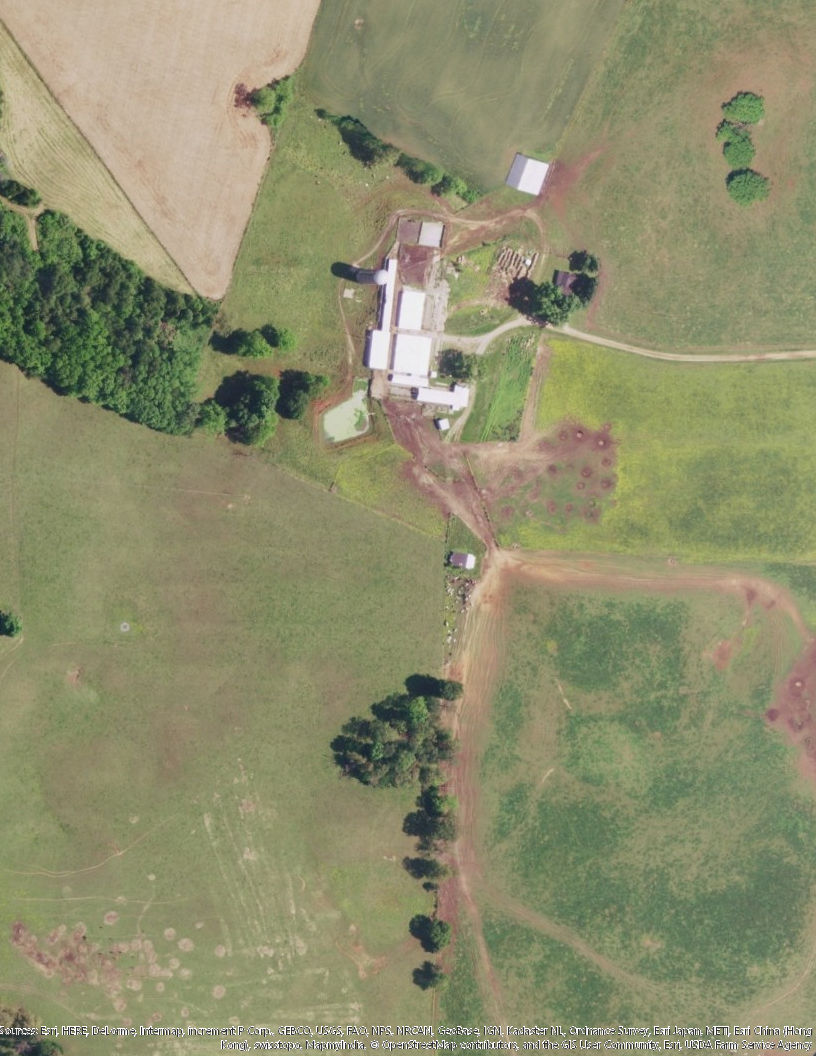cafo: (366, 251, 476, 419)
